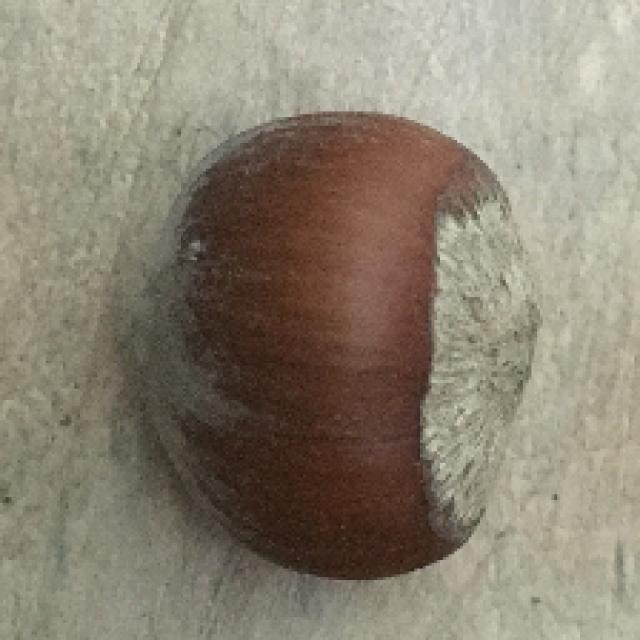QualityHazelnut: (123, 113, 544, 583)
